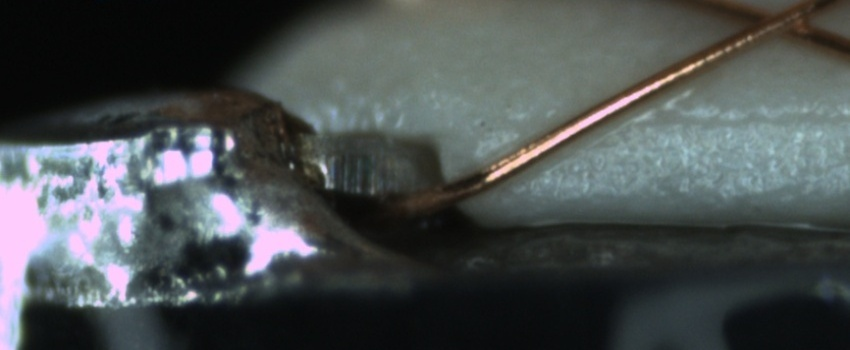CL: (724, 2, 833, 47)
DL: (617, 89, 849, 153)
